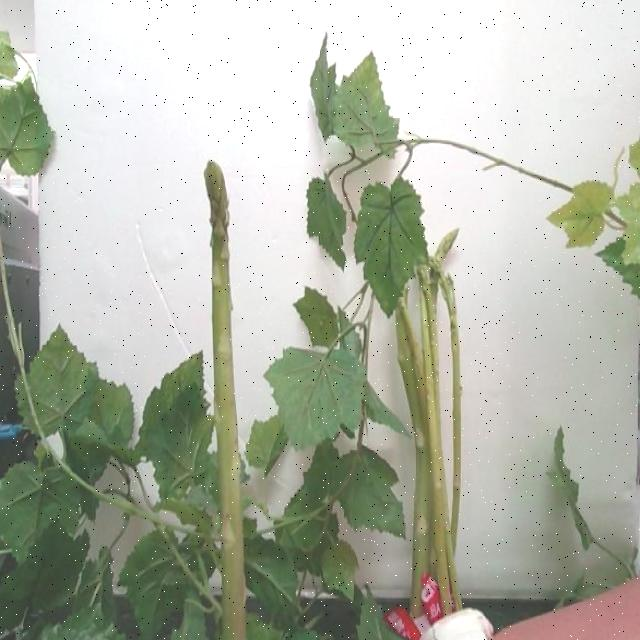aspargus: (204, 162, 248, 640)
